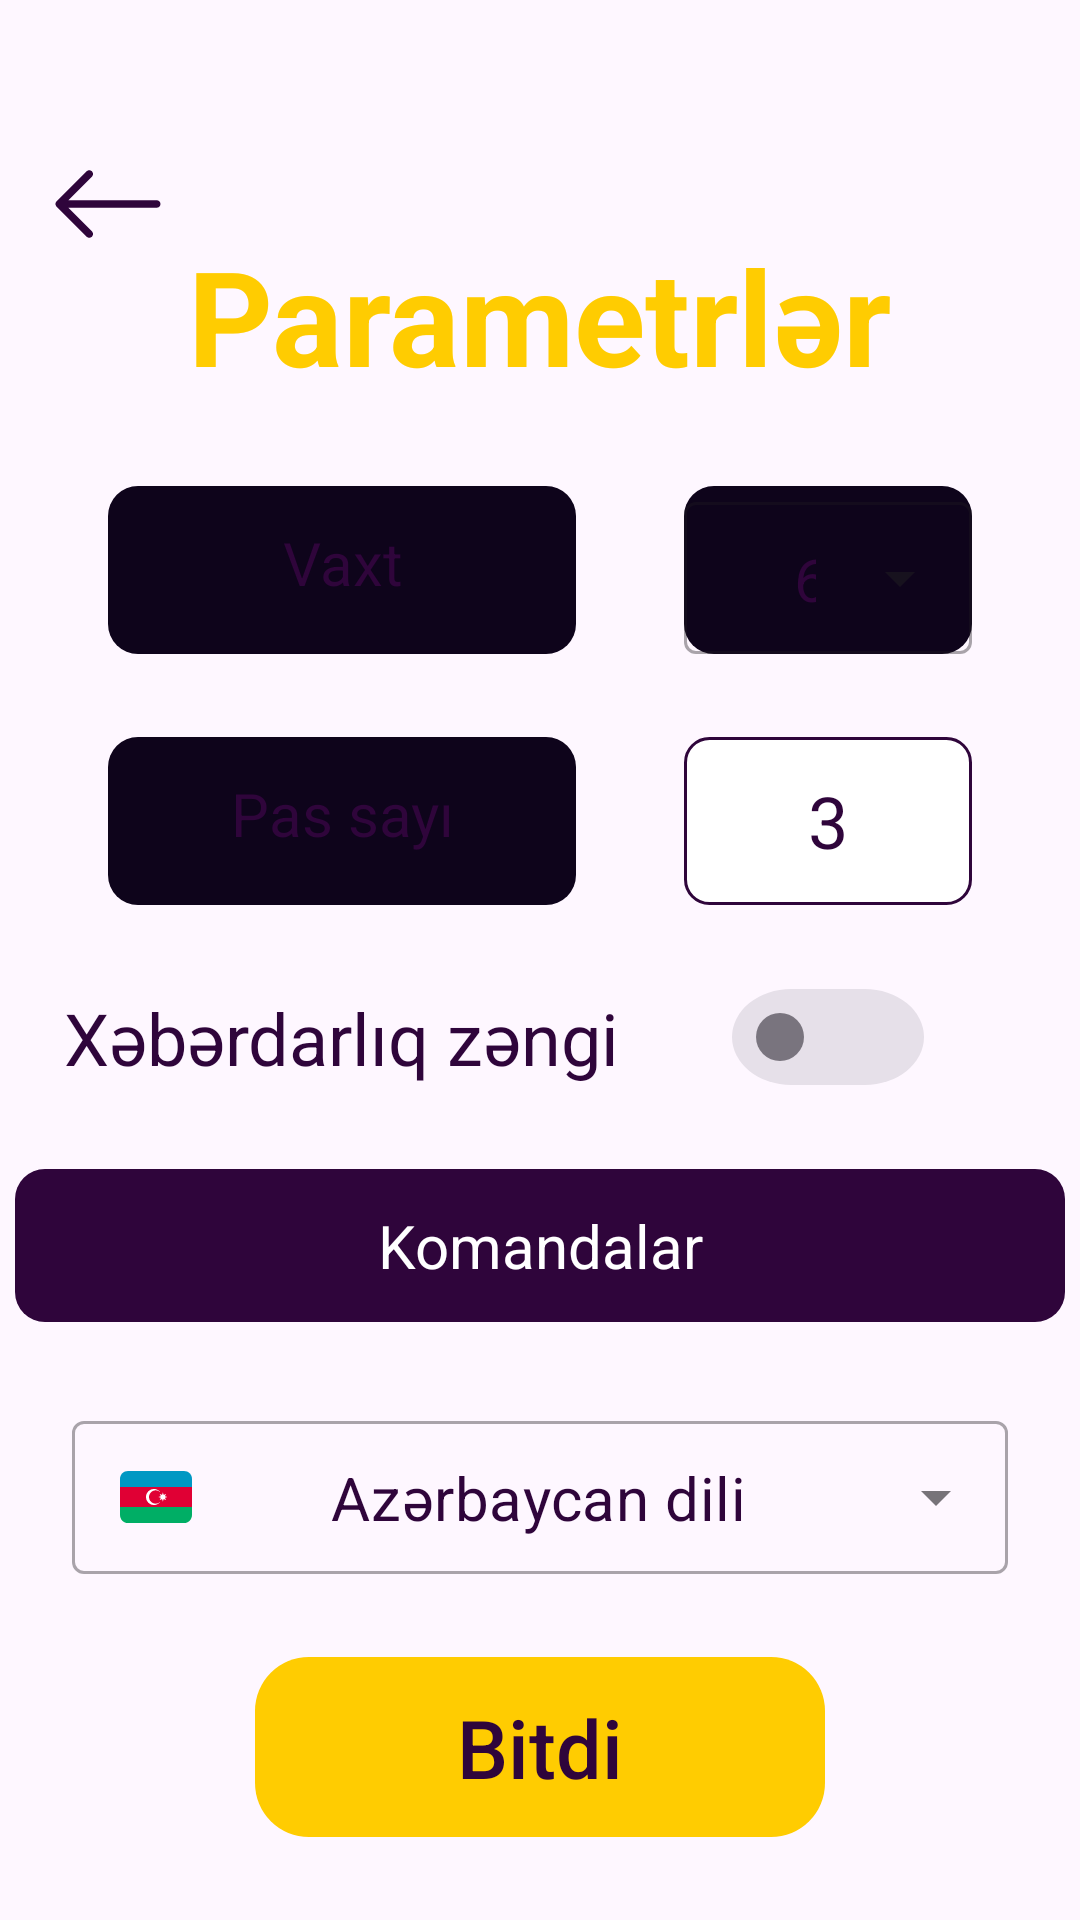

Icon click points for this 1080*1920 phone screenshot, format (x=x, y=y):
back: (x=108, y=204)
